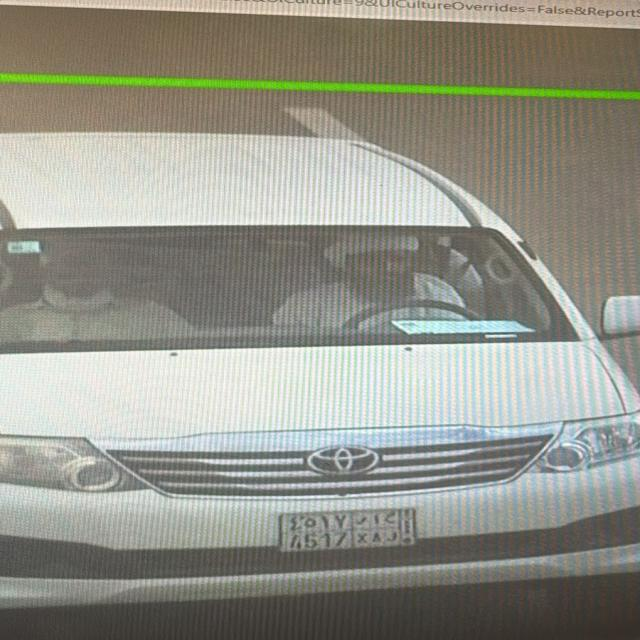person_without_seatbelt: (282, 225, 492, 332)
